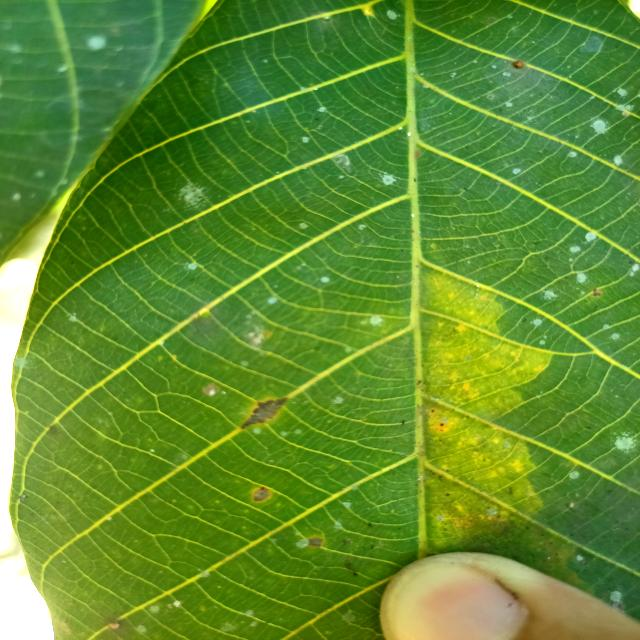Corynespora: (241, 397, 287, 429)
